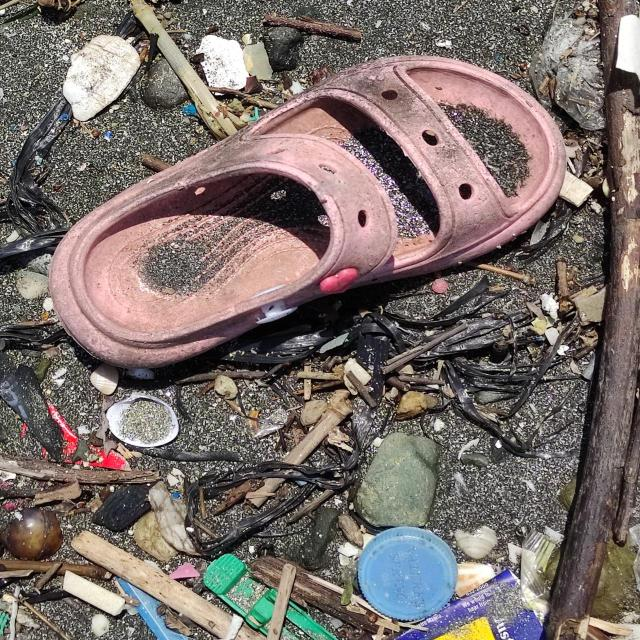plastic_waste: (360, 526, 461, 624)
rubber_waste: (50, 53, 578, 372)
